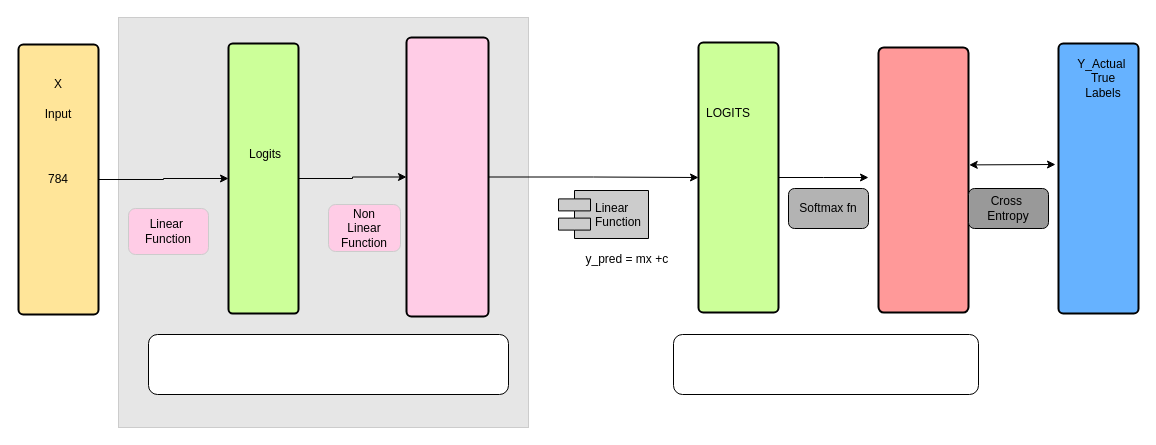
This 1156x445 diagram has some shape labels left out. The shapes that lost their labels are listed below. From the top down, each one's box as (x1, y1, x2, y2) in pixels, then its label:
(405, 36, 489, 317): Non Linear Output
(877, 46, 969, 313): Softmax
(148, 334, 508, 394): 1 Hidden Layer
(672, 334, 978, 394): Readout Layer
